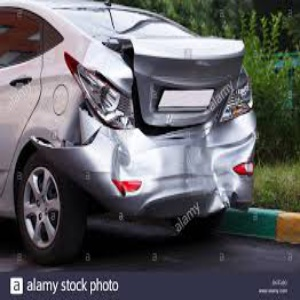bumper: (63, 125, 261, 207)
